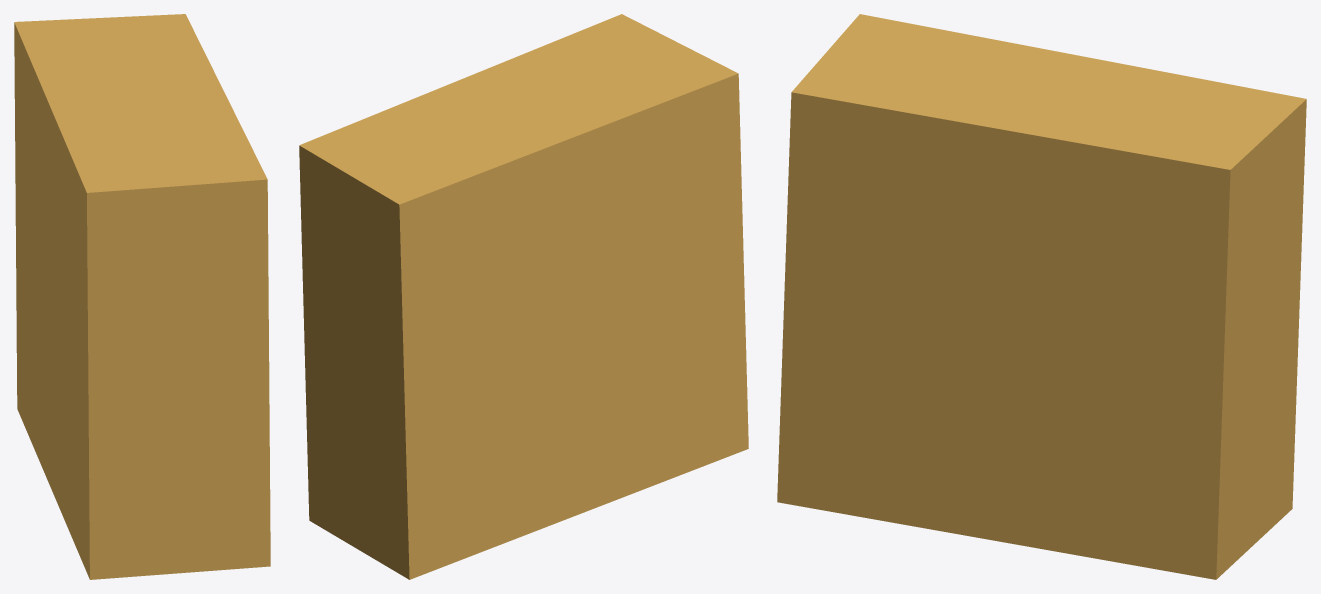
3 views of the same model, side by side, from view 1: azimuth 30°, elevation 25°; view 2: azimuth 150°, elevation 25°; view 3: azimuth 270°, elevation 25° (orthographic). The views are drawn at different scales.
Visible parts, largest first — view 1: SB208504; view 2: SB208504; view 3: SB208504.
Part boxes in pixels (x1=…): SB208504: x1=14, y1=14, x2=270, y2=579; SB208504: x1=299, y1=14, x2=748, y2=579; SB208504: x1=777, y1=14, x2=1306, y2=579.
Bounding box in the file's own units: 11.24 × 15.48 × 17.43.
